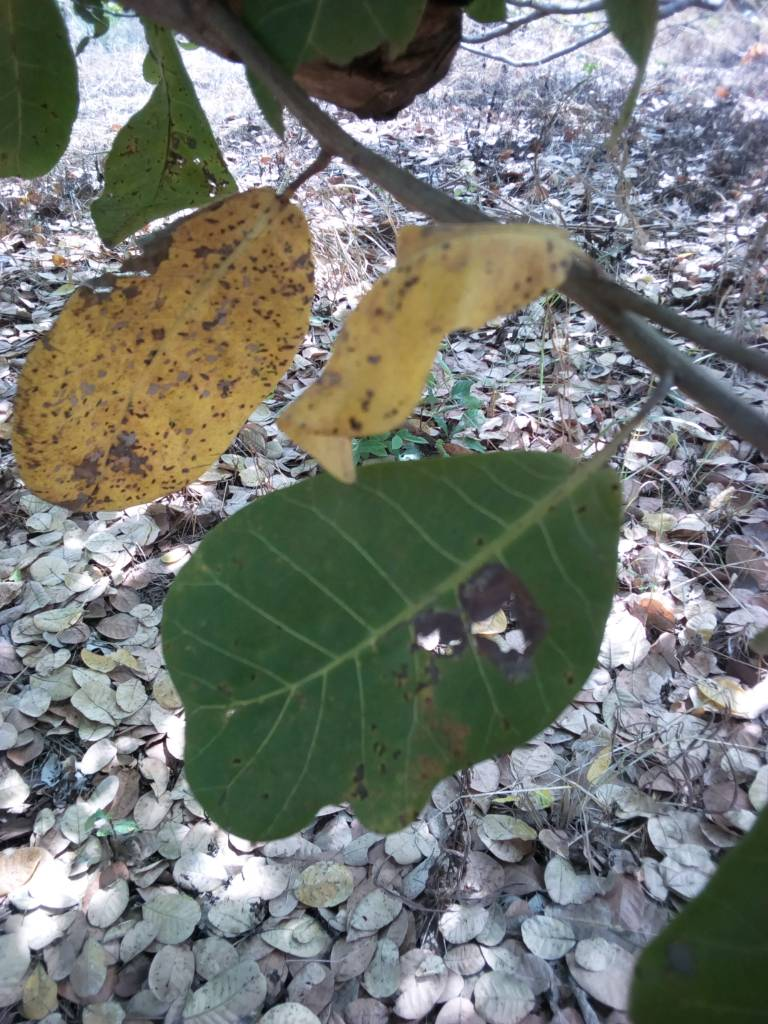Anthracnose: (141, 453, 629, 839), (11, 186, 319, 514), (274, 221, 579, 485), (104, 35, 236, 250), (1, 5, 77, 177)
